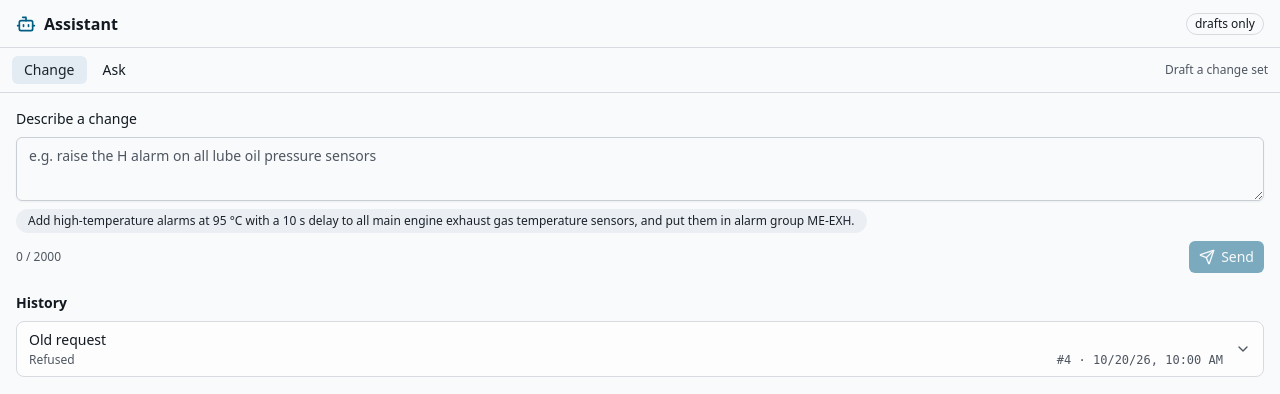
Test: AssistantPanel › lists the project history and fills the input from the example chip
Expected: the text "Old request" is shown, [29,330,106,349]
Click the button "Add high-temperature alarms at" at (441, 221), box [16,209,867,233]
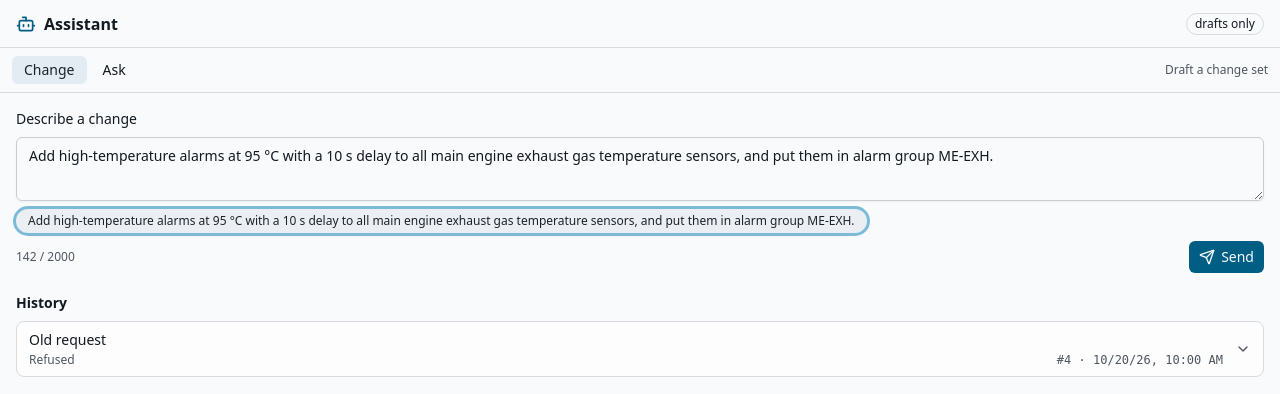
Now the text box labelled "Describe a change" holds "Add high-temperature alarms at 95 °C with a 10 s delay to all main engine exhaust gas temperature sensors, and put them in alarm group ME-EXH.", box [16,137,1264,201]
